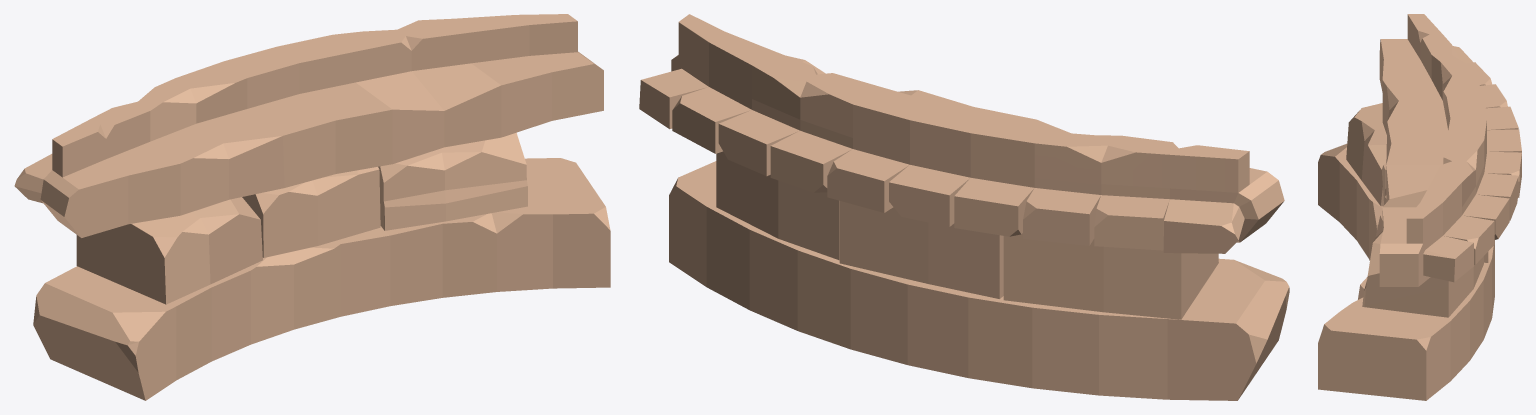
The model's file is shrineBricks.fbx.
3 views of the same model, side by side, from view 1: azimuth 30°, elevation 25°; view 2: azimuth 150°, elevation 25°; view 3: azimuth 270°, elevation 25° (orthographic). The views are drawn at different scales.
Parts seen in each view (by area): view 1: base; view 2: base; view 3: base.
Part boxes in pixels (x1,y1,x2,y2): base: [14, 14, 610, 400]; base: [639, 14, 1289, 400]; base: [1318, 14, 1521, 400].
Size of the model in its own units: 3.76 by 1.44 by 1.48.
